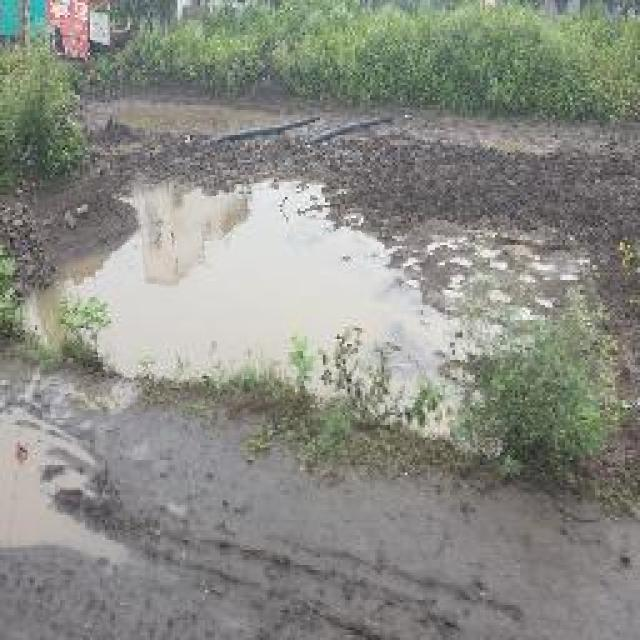puddle: (34, 172, 425, 415)
